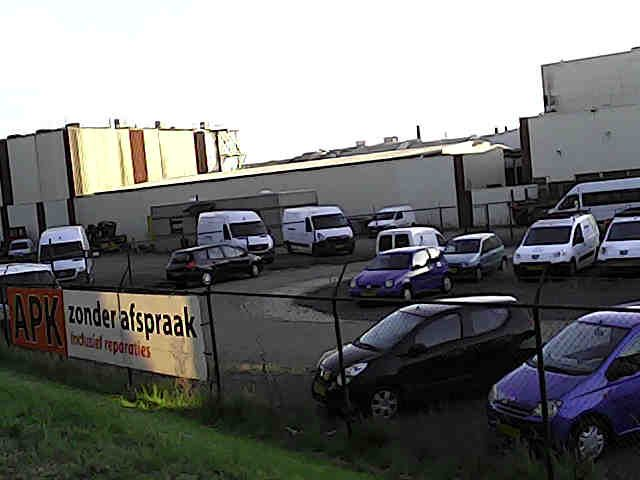suv: (343, 296, 533, 417), (543, 311, 639, 459), (349, 246, 452, 300), (166, 244, 262, 284), (444, 233, 505, 280), (597, 208, 639, 271), (376, 227, 445, 253), (367, 205, 416, 238), (0, 263, 59, 287), (7, 238, 35, 258)
whitevan: (513, 213, 599, 277), (197, 210, 274, 262), (282, 205, 354, 255), (38, 225, 98, 283)
